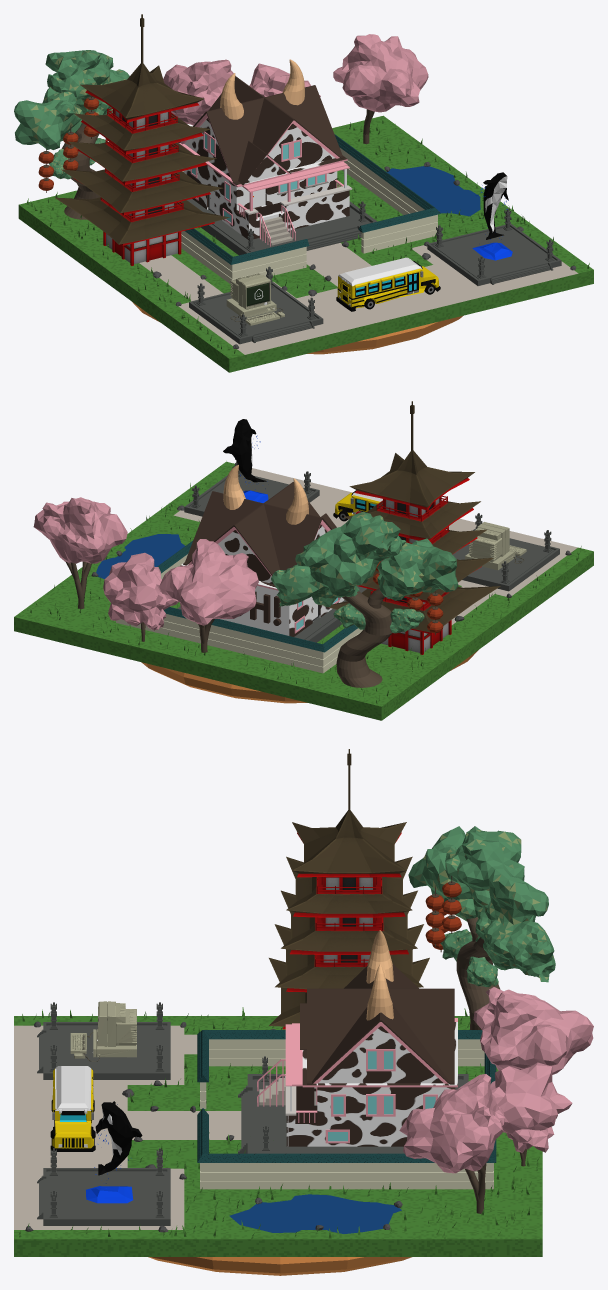
3 renders of one model, top to bottom at view 1: azimuth 30°, elevation 25°; view 2: azimuth 150°, elevation 25°; view 3: azimuth 270°, elevation 25°, orthographic. The views are drawn at different scales.
Parts seen in each view (by area): view 1: Cube.005, Cube.1242, VEHICLES_SCHOOL_BUS, OBJRANDOM_RETRO_PC, ANIMAL_ORCA, UNDERGROUND_PIZZA; view 2: Cube.005, Cube.1242, UNDERGROUND_PIZZA, OBJRANDOM_RETRO_PC, ANIMAL_ORCA, VEHICLES_SCHOOL_BUS; view 3: Cube.005, Cube.1242, VEHICLES_SCHOOL_BUS, UNDERGROUND_PIZZA, OBJRANDOM_RETRO_PC, ANIMAL_ORCA.
Part boxes in pixels (x1,y1,x2,y2): Cube.005: [14, 14, 593, 372]; Cube.1242: [177, 59, 352, 246]; VEHICLES_SCHOOL_BUS: [336, 257, 440, 311]; OBJRANDOM_RETRO_PC: [226, 273, 284, 325]; ANIMAL_ORCA: [472, 172, 512, 260]; UNDERGROUND_PIZZA: [132, 302, 463, 354]; Cube.005: [14, 401, 593, 720]; Cube.1242: [180, 465, 344, 636]; UNDERGROUND_PIZZA: [141, 650, 478, 703]; OBJRANDOM_RETRO_PC: [465, 522, 526, 570]; ANIMAL_ORCA: [223, 419, 268, 502]; VEHICLES_SCHOOL_BUS: [333, 490, 382, 521]; Cube.005: [14, 749, 593, 1256]; Cube.1242: [257, 930, 457, 1146]; VEHICLES_SCHOOL_BUS: [50, 1066, 95, 1151]; UNDERGROUND_PIZZA: [148, 1257, 411, 1275]; OBJRANDOM_RETRO_PC: [70, 1001, 136, 1061]; ANIMAL_ORCA: [86, 1101, 142, 1203].
Size of the model in its own units: 4528 by 2902 by 4389.
49 materials, 5 textured.
